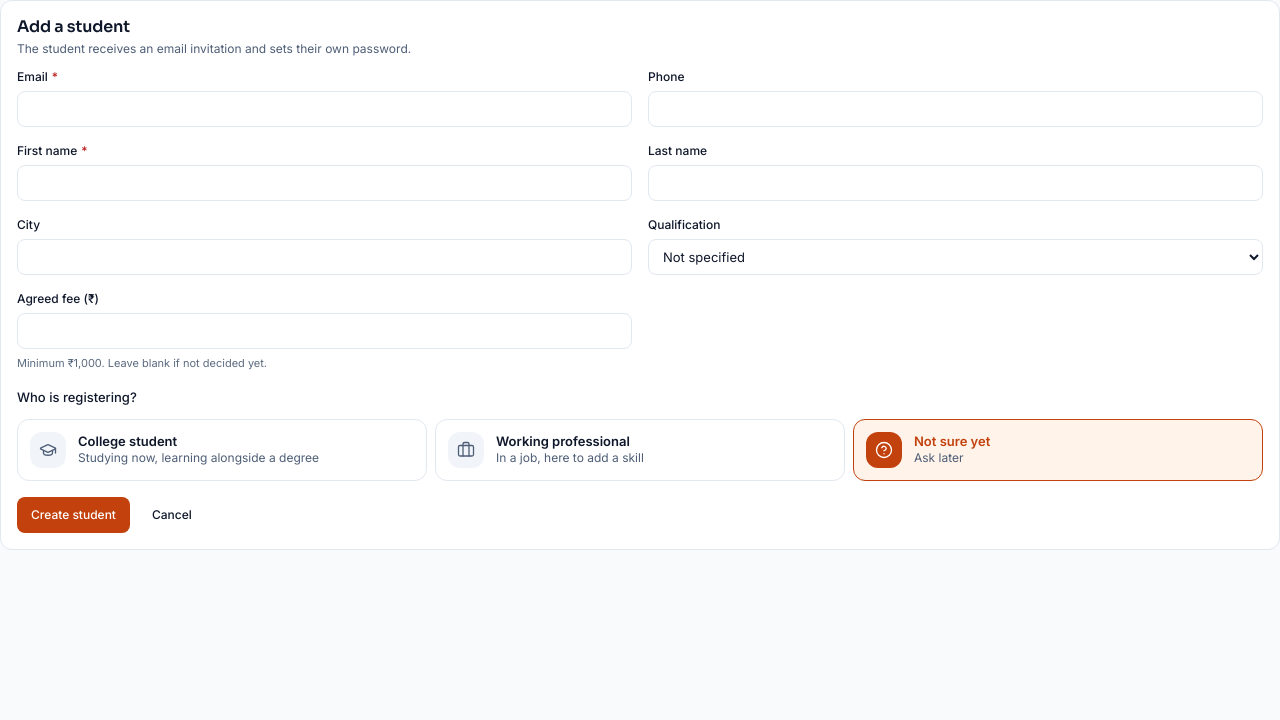
Test: CreateStudentDialog — on-blur validation › flags an obviously malformed email on blur
In the field labelled "Email*": (324, 109) [17,91,632,127], type "not-an-email"
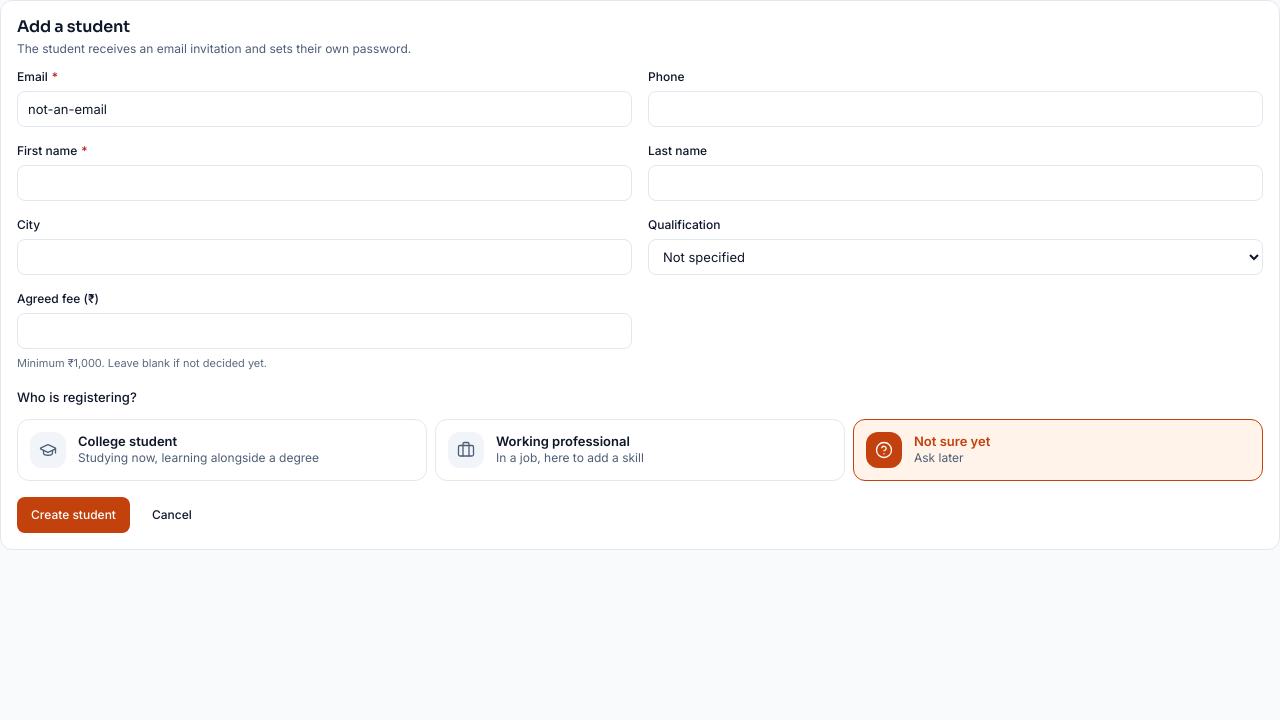
Leave the field labelled "Email*", box [17,91,632,127]
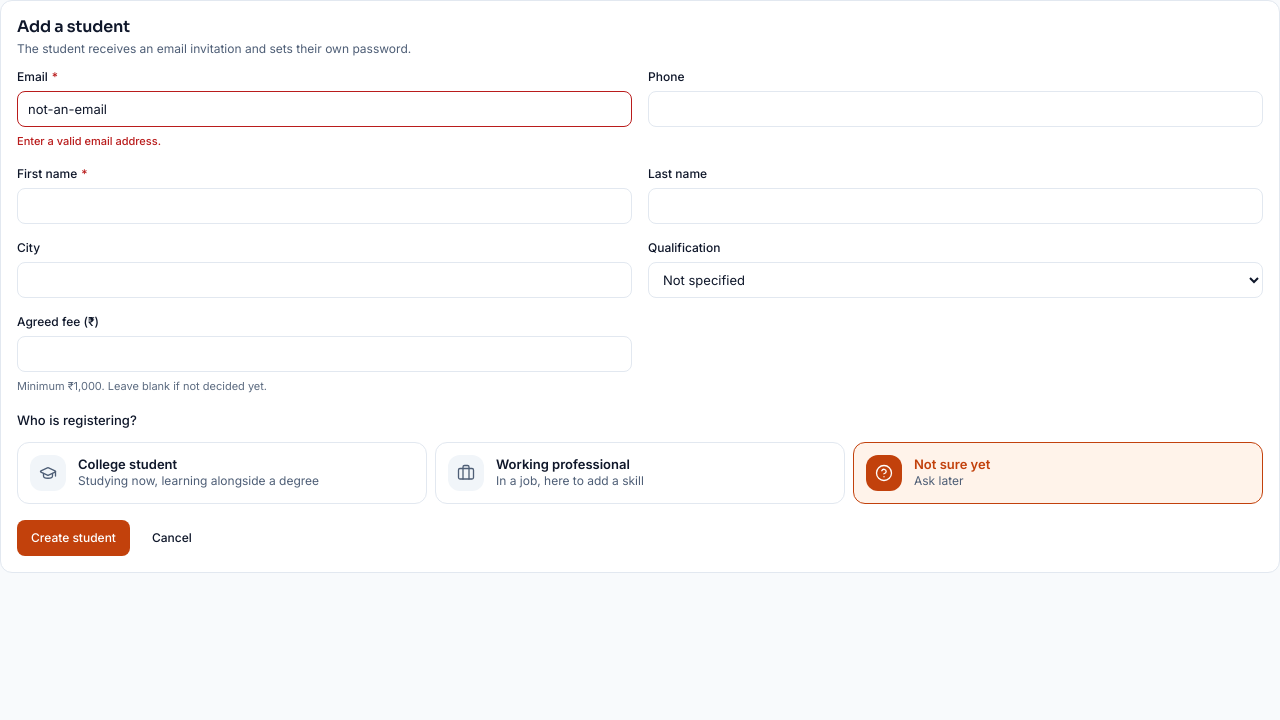
Expected: the text "Enter a valid email address." is shown, [17,134,161,148]
